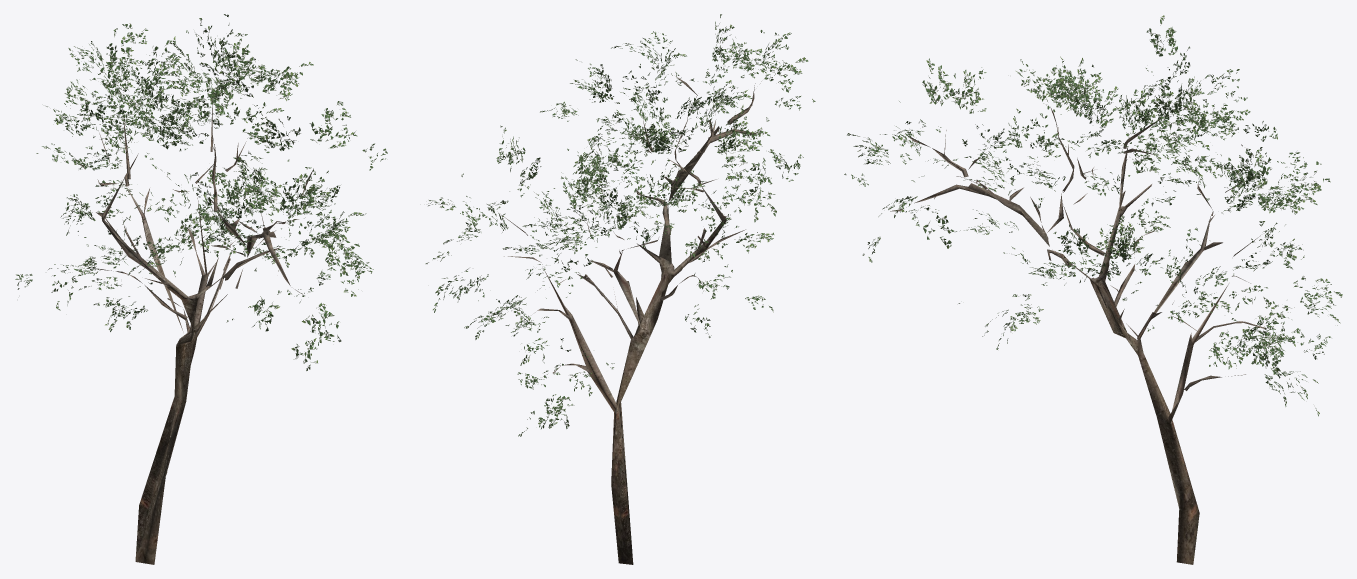
The model's file is tree_small_02.glb.
3 views of the same model, side by side, from view 1: azimuth 30°, elevation 25°; view 2: azimuth 150°, elevation 25°; view 3: azimuth 270°, elevation 25° (orthographic). The views are drawn at different scales.
Visible parts, largest first — view 1: tree_small_02_LOD0; view 2: tree_small_02_LOD0; view 3: tree_small_02_LOD0.
Boxes of the visible parts, x1=… form: tree_small_02_LOD0: x1=15, y1=14, x2=387, y2=564; tree_small_02_LOD0: x1=425, y1=14, x2=815, y2=564; tree_small_02_LOD0: x1=844, y1=15, x2=1342, y2=564.
Bounding box in the file's own units: 2.86 × 4.54 × 4.04.
3 materials, 3 textured.
